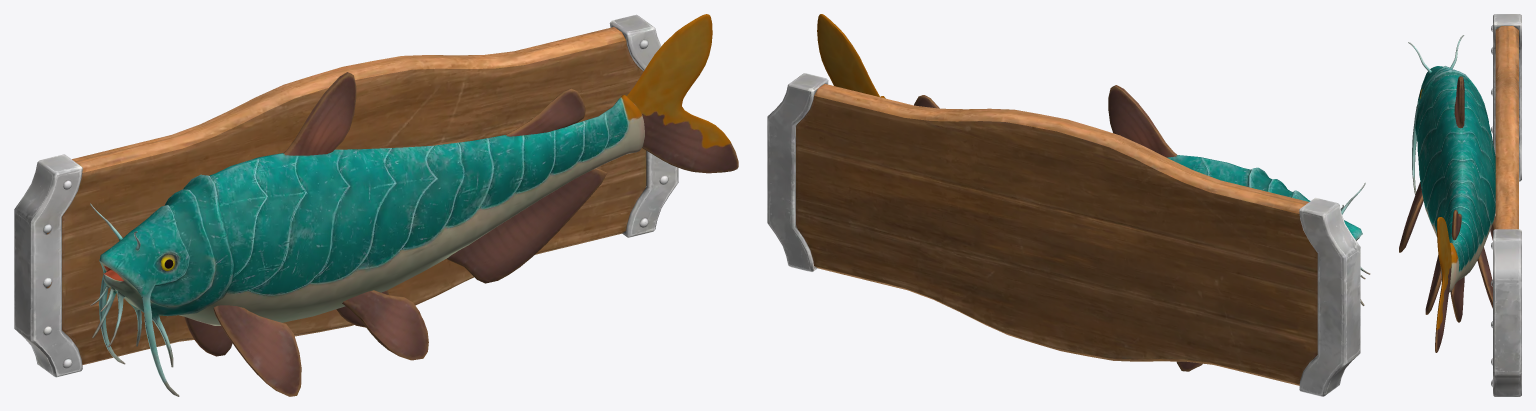
The picture shows the model from 3 angles, left to right: view 1: azimuth 30°, elevation 25°; view 2: azimuth 150°, elevation 25°; view 3: azimuth 270°, elevation 25°; orthographic projection. The views are drawn at different scales.
Parts seen in each view (by area): view 1: SM_Trophy_Plaque_Catfish_01_LOD0; view 2: SM_Trophy_Plaque_Catfish_01_LOD0; view 3: SM_Trophy_Plaque_Catfish_01_LOD0.
Part boxes in pixels (x1,y1,x2,y2): SM_Trophy_Plaque_Catfish_01_LOD0: (14, 14, 738, 396); SM_Trophy_Plaque_Catfish_01_LOD0: (767, 14, 1370, 396); SM_Trophy_Plaque_Catfish_01_LOD0: (1399, 14, 1521, 396).
Bounding box in the file's own units: 1.53 × 0.6148 × 0.3144.
Materials: 2 (2 with a texture image).
